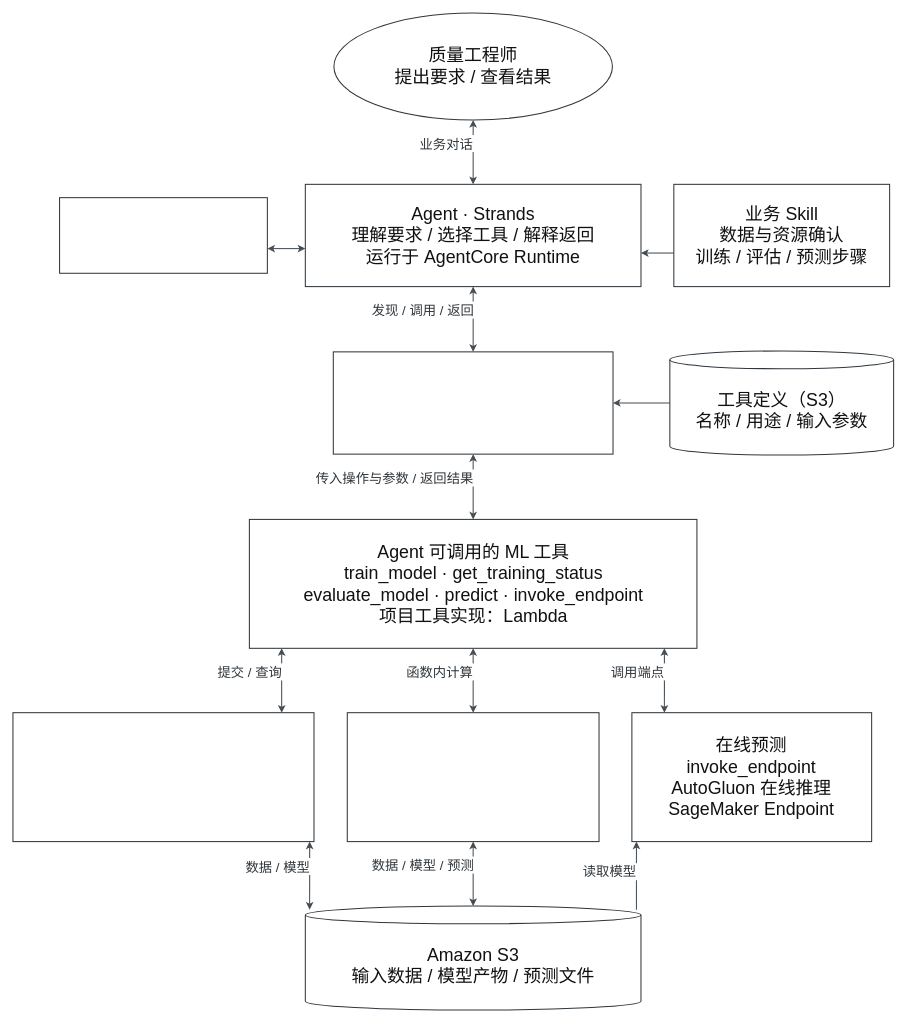
The diagram is 907 pixels wide and 1023 high, and some of its shapes have lost their labels. The centre of each missing label's shape, as x and y in pixels:
"AgentCore Gateway MCP 工具发现与调用 tools/list · tools/call" belongs at point (472, 402).
"同步评估与离线预测 evaluate_model / predict AutoGluon 评估与预测 同一 Lambda 内执行" belongs at point (472, 777).
"基础模型服务 按部署区域选择" belongs at point (163, 235).
"训练与状态查询 train_model / get_training_status AutoGluon 训练 SageMaker Training Job" belongs at point (163, 777).
